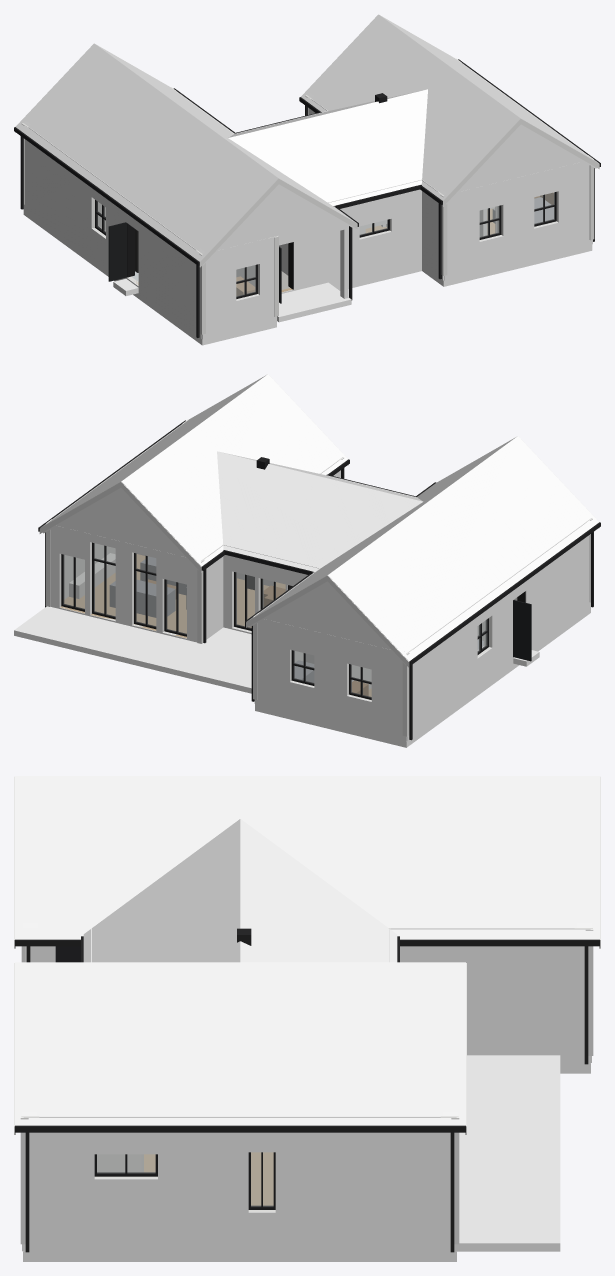
The picture shows the model from 3 angles, top to bottom: view 1: azimuth 30°, elevation 25°; view 2: azimuth 150°, elevation 25°; view 3: azimuth 270°, elevation 25°; orthographic projection. The views are drawn at different scales.
Visible parts, largest first — view 1: Fasadpanel, Tak_vasterflygel, Tak_osterflygel, Tak_mittdel, Hangrannor_stupror_skorsten, Gavel_O_syd, Gavel_V_syd, Grund, Vindskivor, Trall, Knutbrador, Karmar (+5 smaller); view 2: Fasadpanel, Tak_vasterflygel, Tak_osterflygel, Tak_mittdel, Trall, Glas, Hangrannor_stupror_skorsten, Gavel_O_norr, Gavel_V_norr, Karmar, Vaggar, Golv (+7 smaller); view 3: Tak_vasterflygel, Tak_osterflygel, Fasadpanel, Tak_mittdel, Trall, Hangrannor_stupror_skorsten, Grund, Glas, Knutbrador, Golv, Vaggar, Karmar (+1 smaller).
Part boxes in pixels (x1,y1,x2,y2): Fasadpanel: [23, 62, 592, 339]; Tak_vasterflygel: [16, 43, 356, 265]; Tak_osterflygel: [301, 14, 598, 204]; Tak_mittdel: [228, 89, 427, 206]; Hangrannor_stupror_skorsten: [14, 59, 600, 337]; Gavel_O_syd: [439, 124, 591, 195]; Gavel_V_syd: [198, 184, 347, 253]; Grund: [23, 209, 592, 345]; Vindskivor: [15, 15, 599, 267]; Trall: [113, 279, 351, 322]; Knutbrador: [22, 95, 594, 334]; Karmar: [95, 192, 556, 298]; Fasadpanel: [50, 424, 590, 741]; Tak_vasterflygel: [246, 436, 598, 665]; Tak_osterflygel: [40, 374, 348, 570]; Tak_mittdel: [217, 451, 423, 572]; Trall: [14, 606, 539, 693]; Glas: [63, 543, 487, 697]; Hangrannor_stupror_skorsten: [38, 420, 600, 740]; Gavel_O_norr: [48, 488, 205, 560]; Gavel_V_norr: [256, 581, 410, 653]; Karmar: [61, 542, 525, 699]; Vaggar: [60, 542, 517, 701]; Golv: [60, 554, 371, 696]; Tak_vasterflygel: [15, 776, 599, 939]; Tak_osterflygel: [15, 962, 465, 1125]; Fasadpanel: [22, 928, 591, 1251]; Tak_mittdel: [83, 819, 397, 962]; Trall: [457, 1055, 560, 1251]; Hangrannor_stupror_skorsten: [15, 928, 599, 1252]; Grund: [23, 1063, 590, 1261]; Glas: [97, 1152, 273, 1206]; Knutbrador: [20, 929, 593, 1244]; Golv: [144, 1152, 273, 1205]; Vaggar: [94, 1154, 275, 1211]; Karmar: [94, 1152, 275, 1209].
Bounding box in the file's own units: 16.53 × 5.82 × 12.8.
